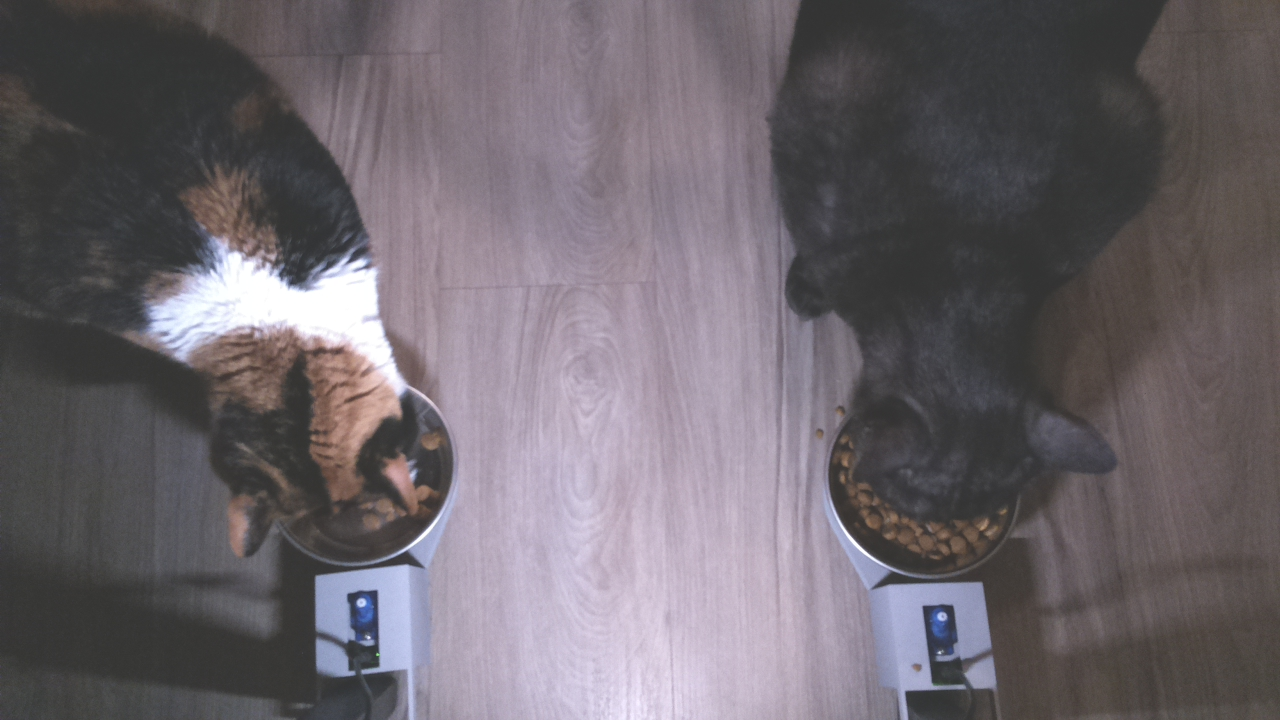bella_eating: (179, 286, 470, 576)
saki_eating: (820, 304, 1122, 600)
